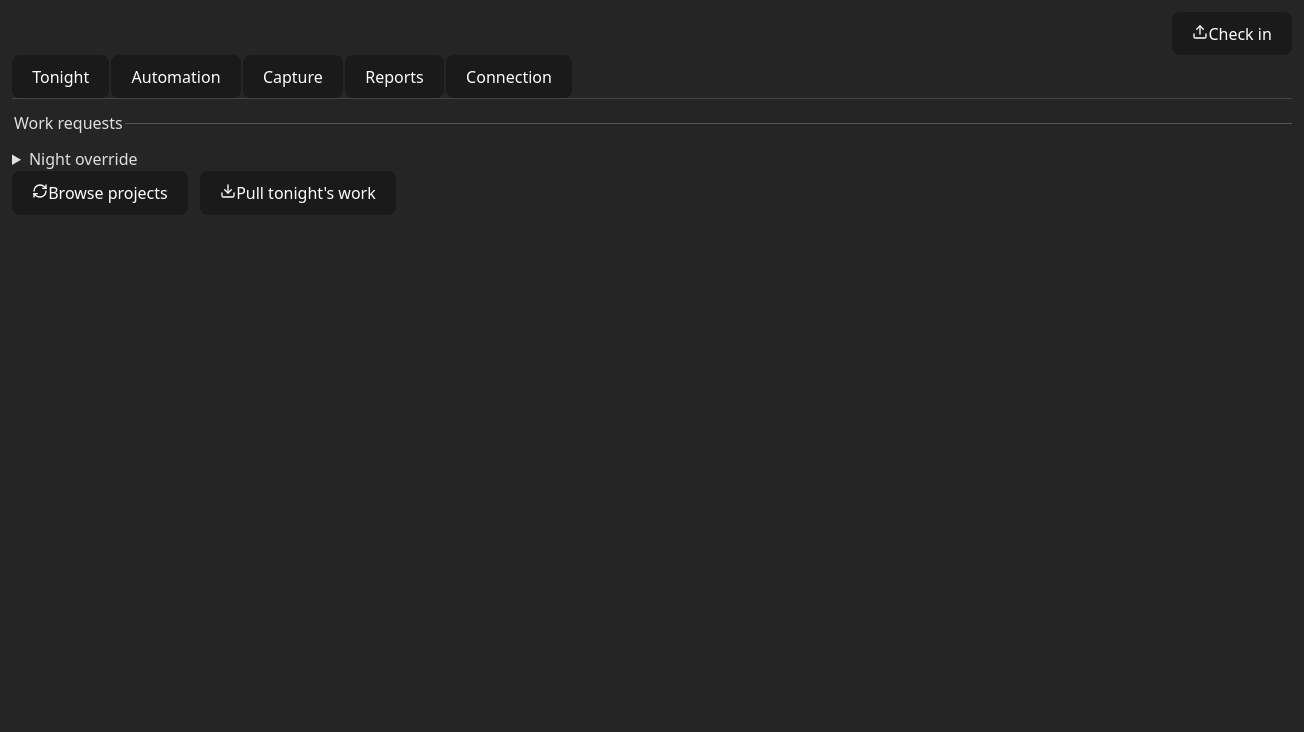
it: Collaboration work transfer › says when an import rejoins a plan that left the project
Click the button "Pull tonight's work".
click(298, 193)  # box [200,171,396,215]
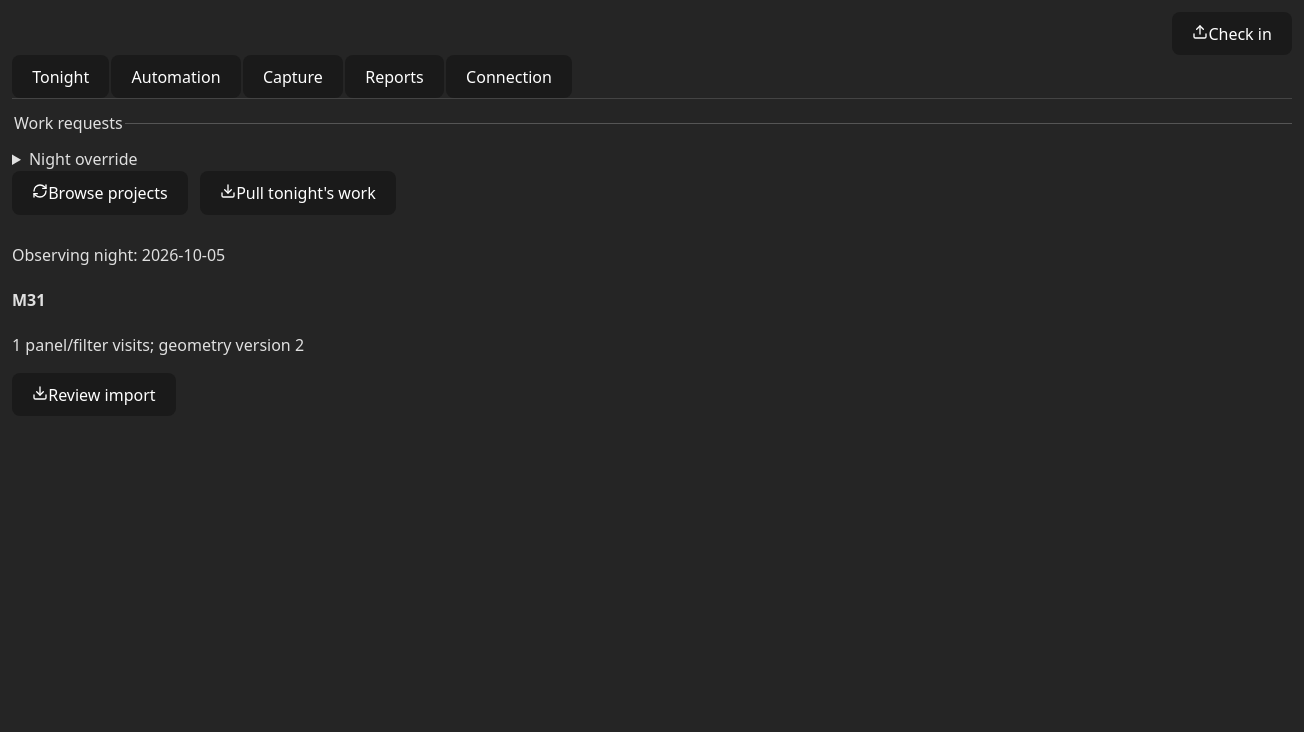
Click the button "Review import".
click(94, 395)  # box [12,373,176,416]
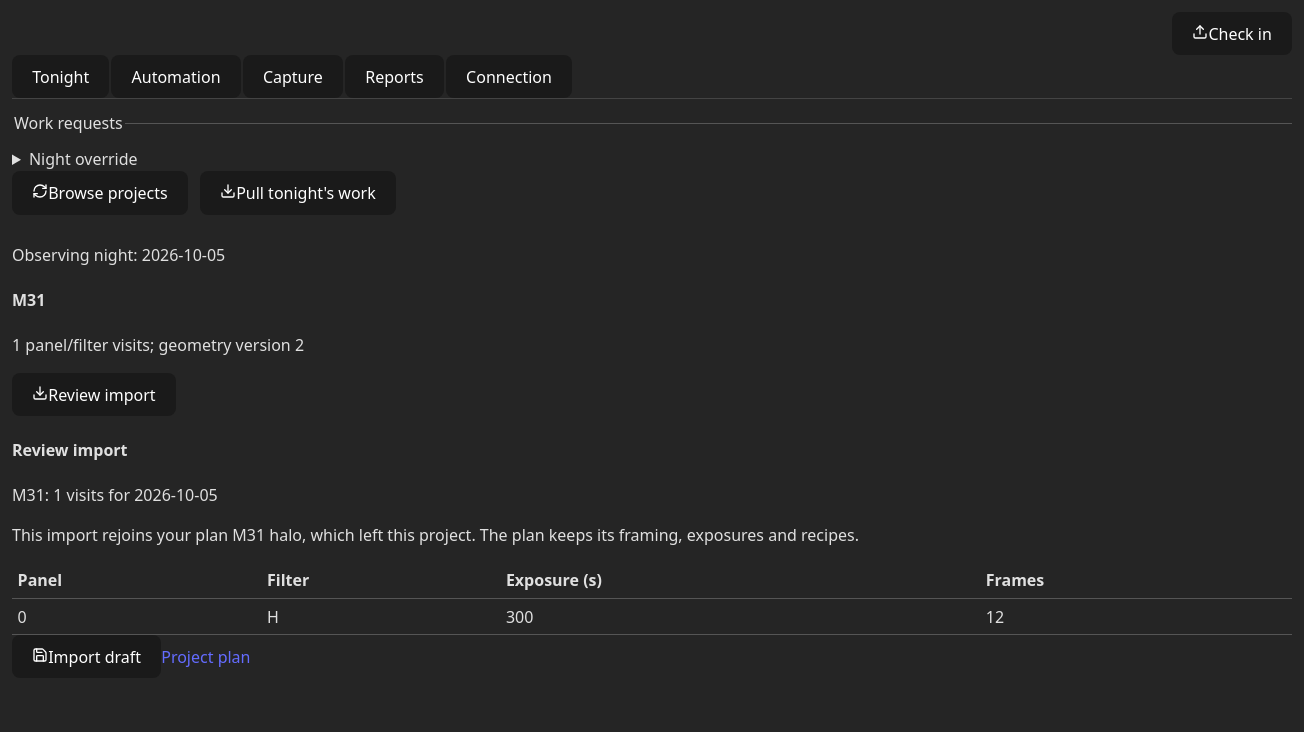
Expected: the text "This import rejoins your plan M31 halo, which left this project. The plan keeps its framing, exposures and recipes." is shown, [12,524,859,546]
